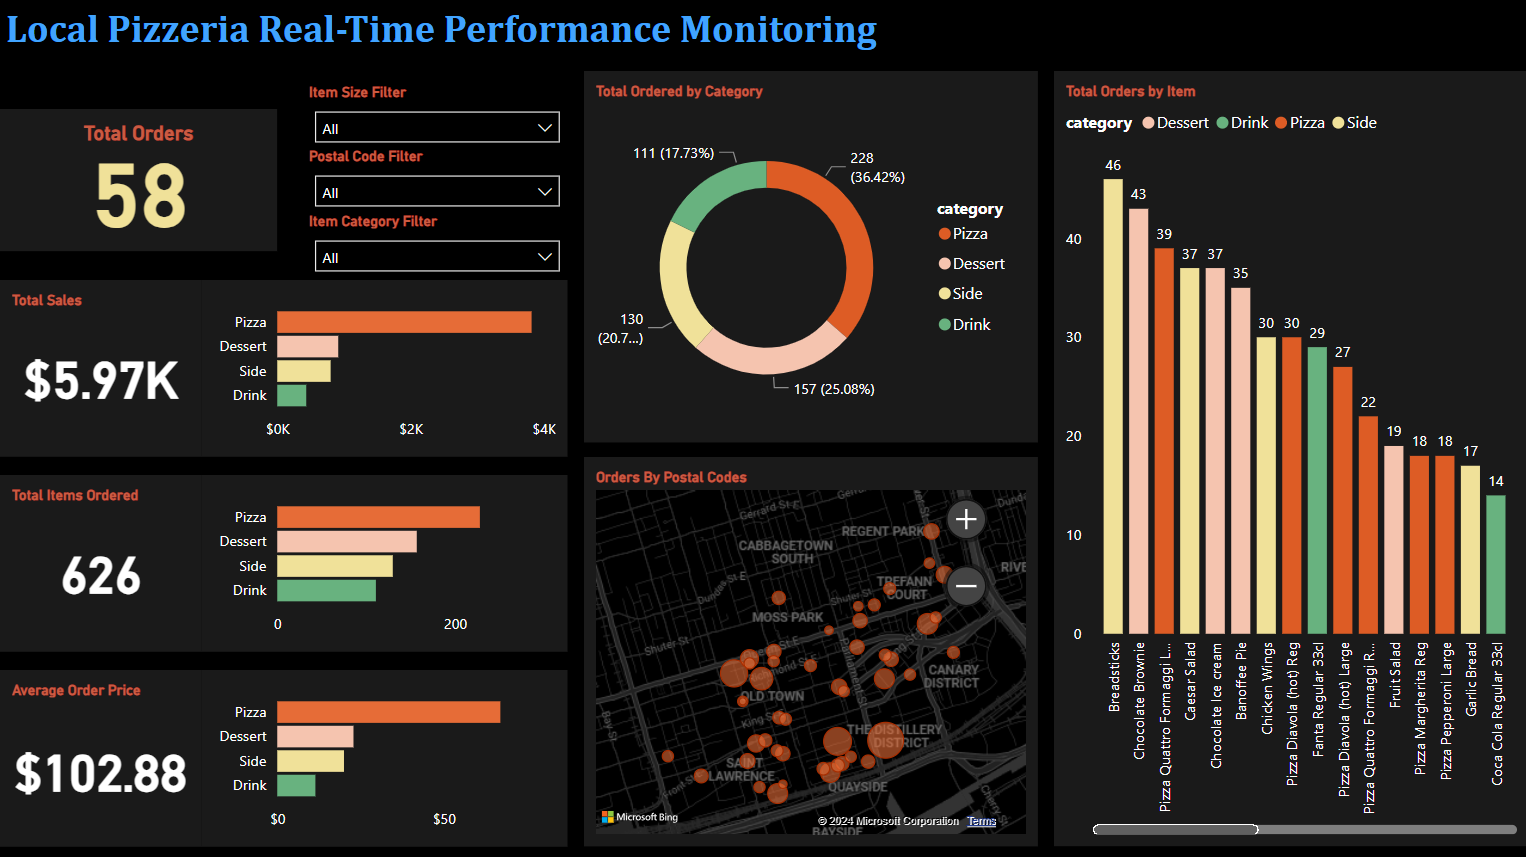

This screenshot's page, from the dashboard's own definition file:
{"tool":"powerbi","page":{"name":"Orders","canvas":[1280,720],"ordinal":0},"visuals":[{"type":"kpi","title":"Total Orders","fields":{"Indicator":["Orders.Count of order_id total for creation_time"],"TrendLine":["Orders.creation_time"]},"box":[0,91.4,232,119],"z":0},{"type":"kpi","title":"Total Sales","fields":{"Indicator":["Sum(Orders.Total Sales)"],"TrendLine":["Orders.creation_time.Variation.Date Hierarchy.Year"]},"box":[0,234.6,169.1,148.4],"z":1000},{"type":"kpi","title":"Total Items Ordered","fields":{"TrendLine":["Orders.creation_time.Variation.Date Hierarchy.Year"],"Indicator":["Sum(Orders.quantity_ordered)"]},"box":[0,397.6,169.1,148.4],"z":2000},{"type":"kpi","title":"Average Order Price","fields":{"TrendLine":["Orders.creation_time.Variation.Date Hierarchy.Year"],"Indicator":["Address.Total Sales average per order_id"]},"box":[0,560.6,169.1,148.4],"z":3000},{"type":"clusteredBarChart","title":"Total Sales by Category","fields":{"Category":["Item.category"],"Y":["Sum(Orders.Total Sales)"]},"box":[169.1,234.6,306.2,148.4],"z":4000},{"type":"donutChart","title":"Total Ordered by Category","fields":{"Category":["Item.category"],"Y":["Sum(Orders.quantity_ordered)"]},"box":[489.1,59.5,379.5,311.4],"z":5000},{"type":"columnChart","title":"Total Orders by Item","fields":{"Category":["Item.item_name"],"Y":["Sum(Orders.quantity_ordered)"],"Series":["Item.category"]},"box":[882.4,59.5,397.6,649.5],"z":6000},{"type":"map","title":"Orders By Postal Codes","fields":{"Category":["Address.postal_code"],"Size":["Sum(Orders.quantity_ordered)"]},"box":[489.1,383,379.5,326],"z":7000},{"type":"slicer","title":"Item Size Filter","fields":{"Values":["Item.item_size"]},"box":[258.8,70.7,214.8,53.5],"z":8000},{"type":"slicer","title":"Postal Code Filter","fields":{"Values":["Address.postal_code"]},"box":[258.8,124.2,214.8,54.3],"z":9000},{"type":"slicer","title":"Item Category Filter","fields":{"Values":["Item.category"]},"box":[258.8,178.5,214.8,54.3],"z":10000},{"type":"clusteredBarChart","title":"Total Sales by Category","fields":{"Category":["Item.category"],"Y":["Sum(Orders.quantity_ordered)"]},"box":[169.1,397.6,306.2,148.4],"z":11000},{"type":"clusteredBarChart","title":"Total Sales by Category","fields":{"Category":["Item.category"],"Y":["Address.Total Sales average per order_id"]},"box":[169.1,560.6,306.2,148.4],"z":12000},{"type":"textbox","box":[0,0,802.2,56.9],"z":13000}]}

Visuals, with their boxes in screenshot pixels (x1, y1, x2, y2), scaled from the page's 1280x720 canvas onto the 1526x857 screenshot:
"Total Orders" kpi: [0, 109, 277, 250]
"Total Sales" kpi: [0, 279, 202, 456]
"Total Items Ordered" kpi: [0, 473, 202, 650]
"Average Order Price" kpi: [0, 667, 202, 844]
"Total Sales by Category" clusteredBarChart: [202, 279, 567, 456]
"Total Ordered by Category" donutChart: [583, 71, 1036, 441]
"Total Orders by Item" columnChart: [1052, 71, 1525, 844]
"Orders By Postal Codes" map: [583, 456, 1036, 844]
"Item Size Filter" slicer: [309, 84, 565, 148]
"Postal Code Filter" slicer: [309, 148, 565, 212]
"Item Category Filter" slicer: [309, 212, 565, 277]
"Total Sales by Category" clusteredBarChart: [202, 473, 567, 650]
"Total Sales by Category" clusteredBarChart: [202, 667, 567, 844]
textbox: [0, 0, 956, 68]
